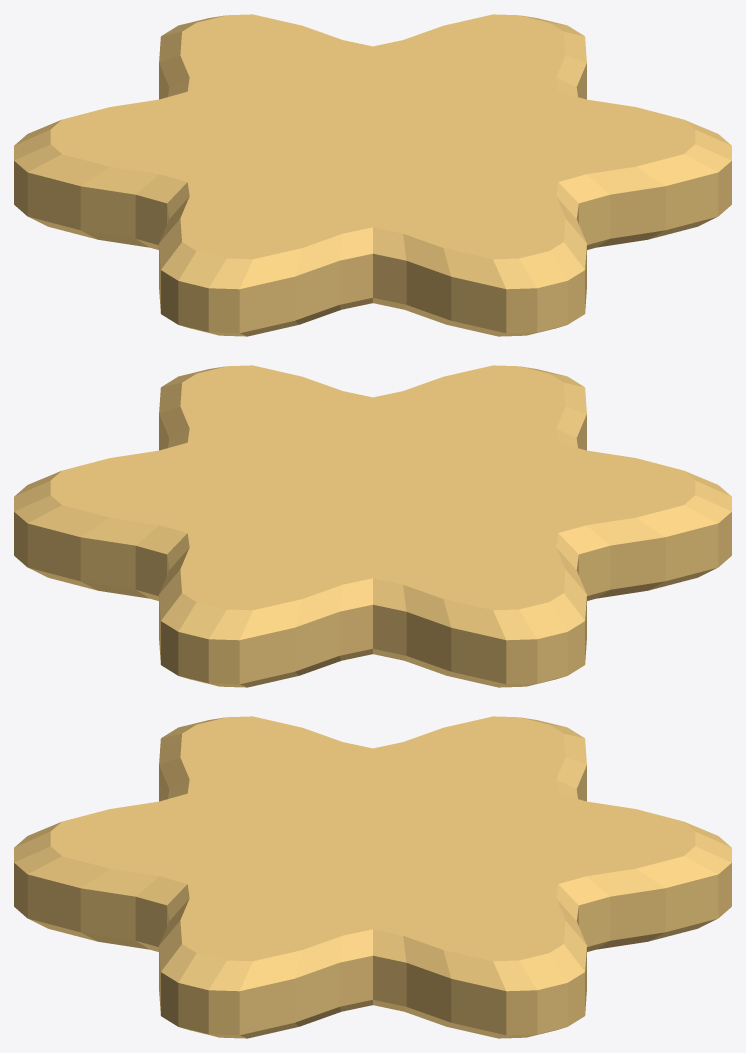
Rendered from 19-cookies.glb.
3 views of the same model, one above another, from view 1: azimuth 30°, elevation 25°; view 2: azimuth 150°, elevation 25°; view 3: azimuth 270°, elevation 25° (orthographic).
Visible parts, largest first — view 1: Six petal butter cookie; view 2: Six petal butter cookie; view 3: Six petal butter cookie.
Boxes of the visible parts, left/top/right/bottom form: Six petal butter cookie: left=14, top=14, right=731, bottom=336; Six petal butter cookie: left=14, top=365, right=731, bottom=687; Six petal butter cookie: left=14, top=716, right=731, bottom=1038.
Size of the model in its own units: 1.79 by 0.22 by 1.99.
